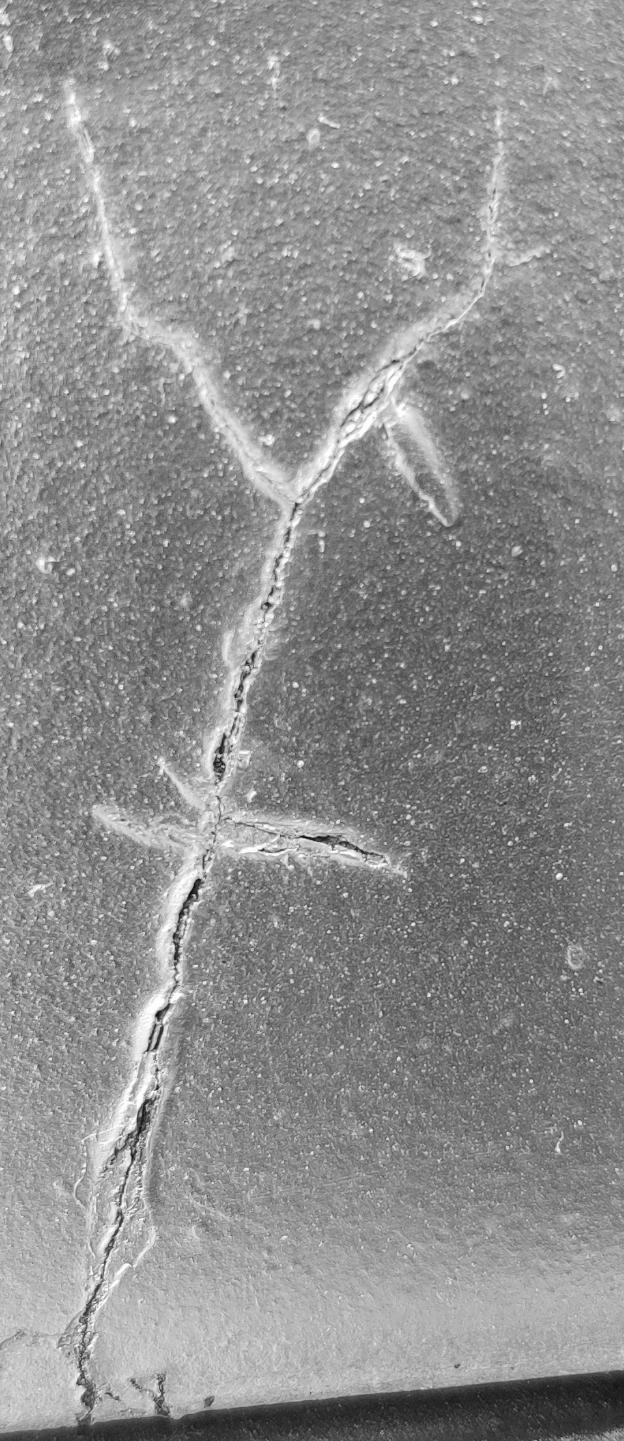crack: (1, 1, 624, 1441)
